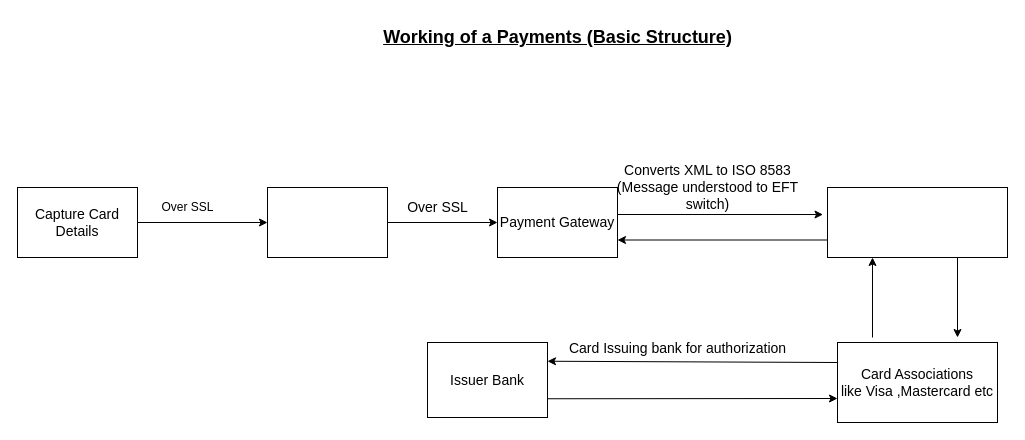
This 1025x440 diagram has some shape labels left out. Here are the shapes that lost their labels. From the top down, the centre of each, then its label:
At (x=327, y=222): "Merchant's Application".
At (x=917, y=222): "Payment Processor (used by merchant acquiring bank)".
